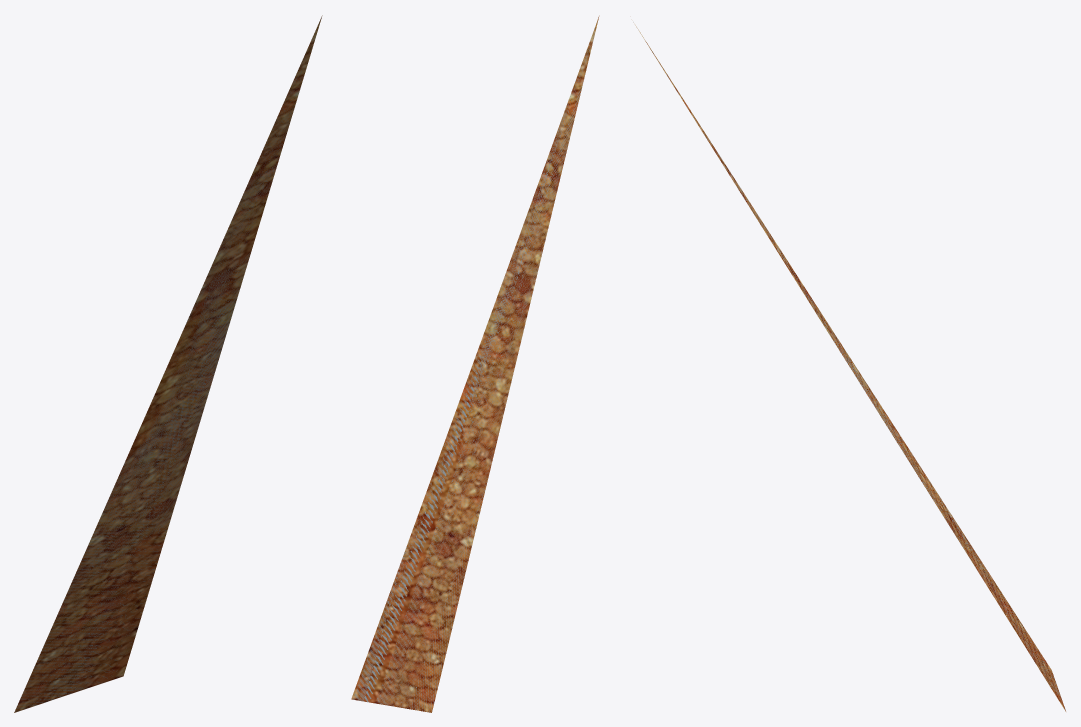
File: 西庸城堡158.dae
3 renders of one model, left to right at view 1: azimuth 30°, elevation 25°; view 2: azimuth 150°, elevation 25°; view 3: azimuth 270°, elevation 25°, orthographic. The views are drawn at different scales.
Parts seen in each view (by area): view 1: SketchUp; view 2: SketchUp; view 3: SketchUp.
Part boxes in pixels (bbox=[...]): SketchUp: bbox=[14, 15, 322, 712]; SketchUp: bbox=[351, 15, 599, 712]; SketchUp: bbox=[633, 22, 1065, 711].
Bounding box in the file's own units: 38.08 × 165 × 276.
